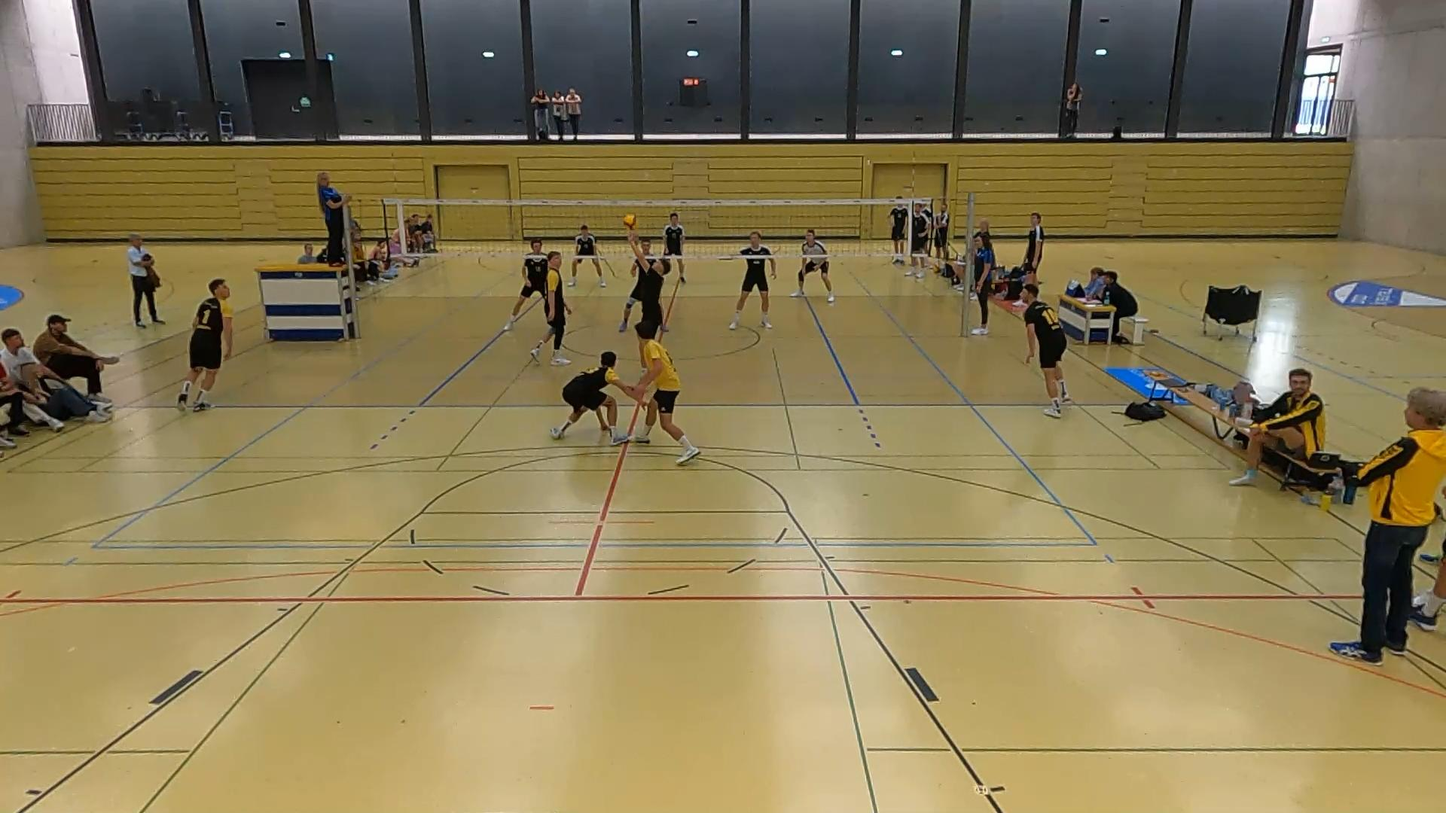alzata: (619, 222, 674, 373)
